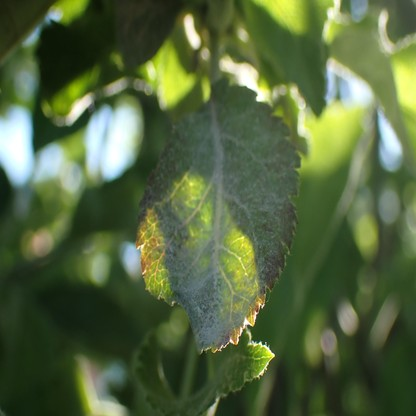powder: (134, 73, 301, 353), (247, 333, 275, 382)
